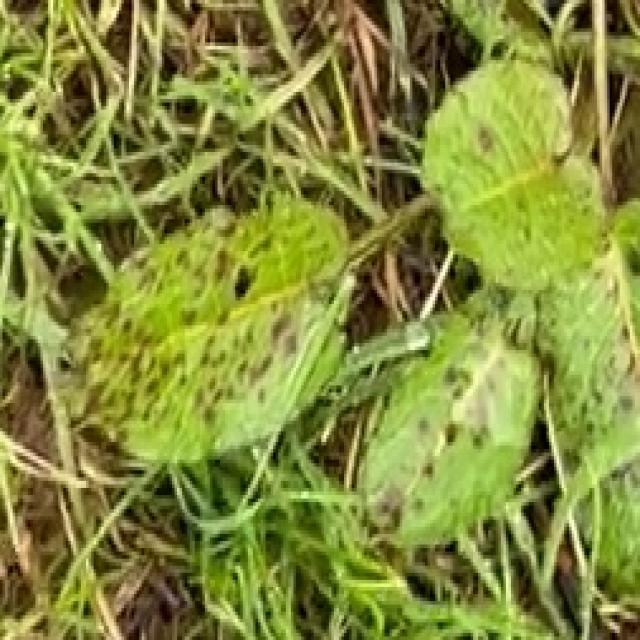organic waste: (66, 40, 640, 640)
